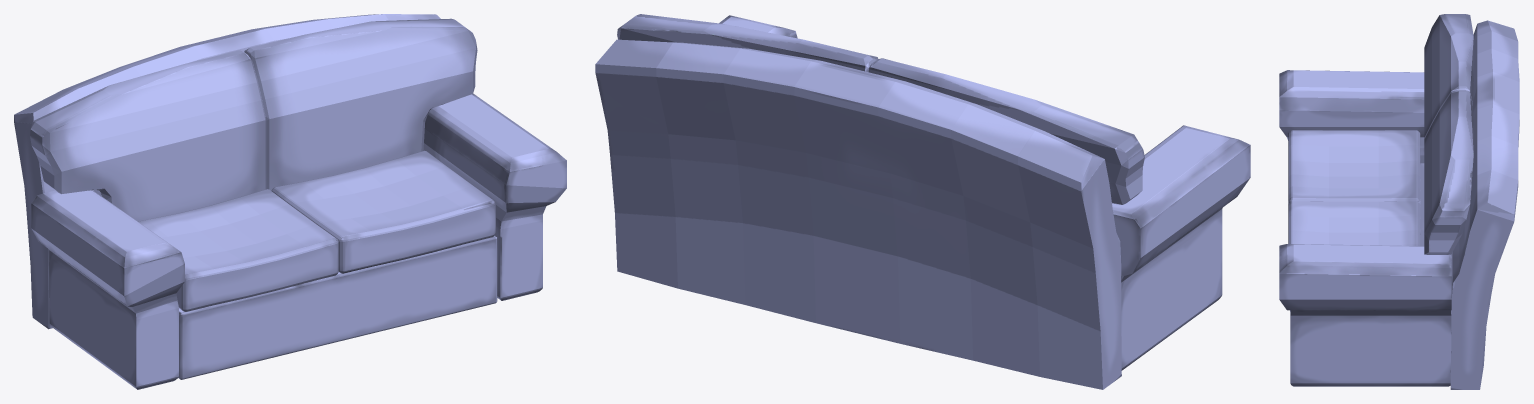
Rendered from Couch.fbx.
3 views of the same model, side by side, from view 1: azimuth 30°, elevation 25°; view 2: azimuth 150°, elevation 25°; view 3: azimuth 270°, elevation 25° (orthographic). The views are drawn at different scales.
Visible parts, largest first — view 1: Couch; view 2: Couch; view 3: Couch.
Boxes of the visible parts, <box> form: Couch: <box>14,14,566,389</box>; Couch: <box>595,14,1250,389</box>; Couch: <box>1279,14,1519,389</box>.
Bounding box in the file's own units: 1240 × 603 × 630.
